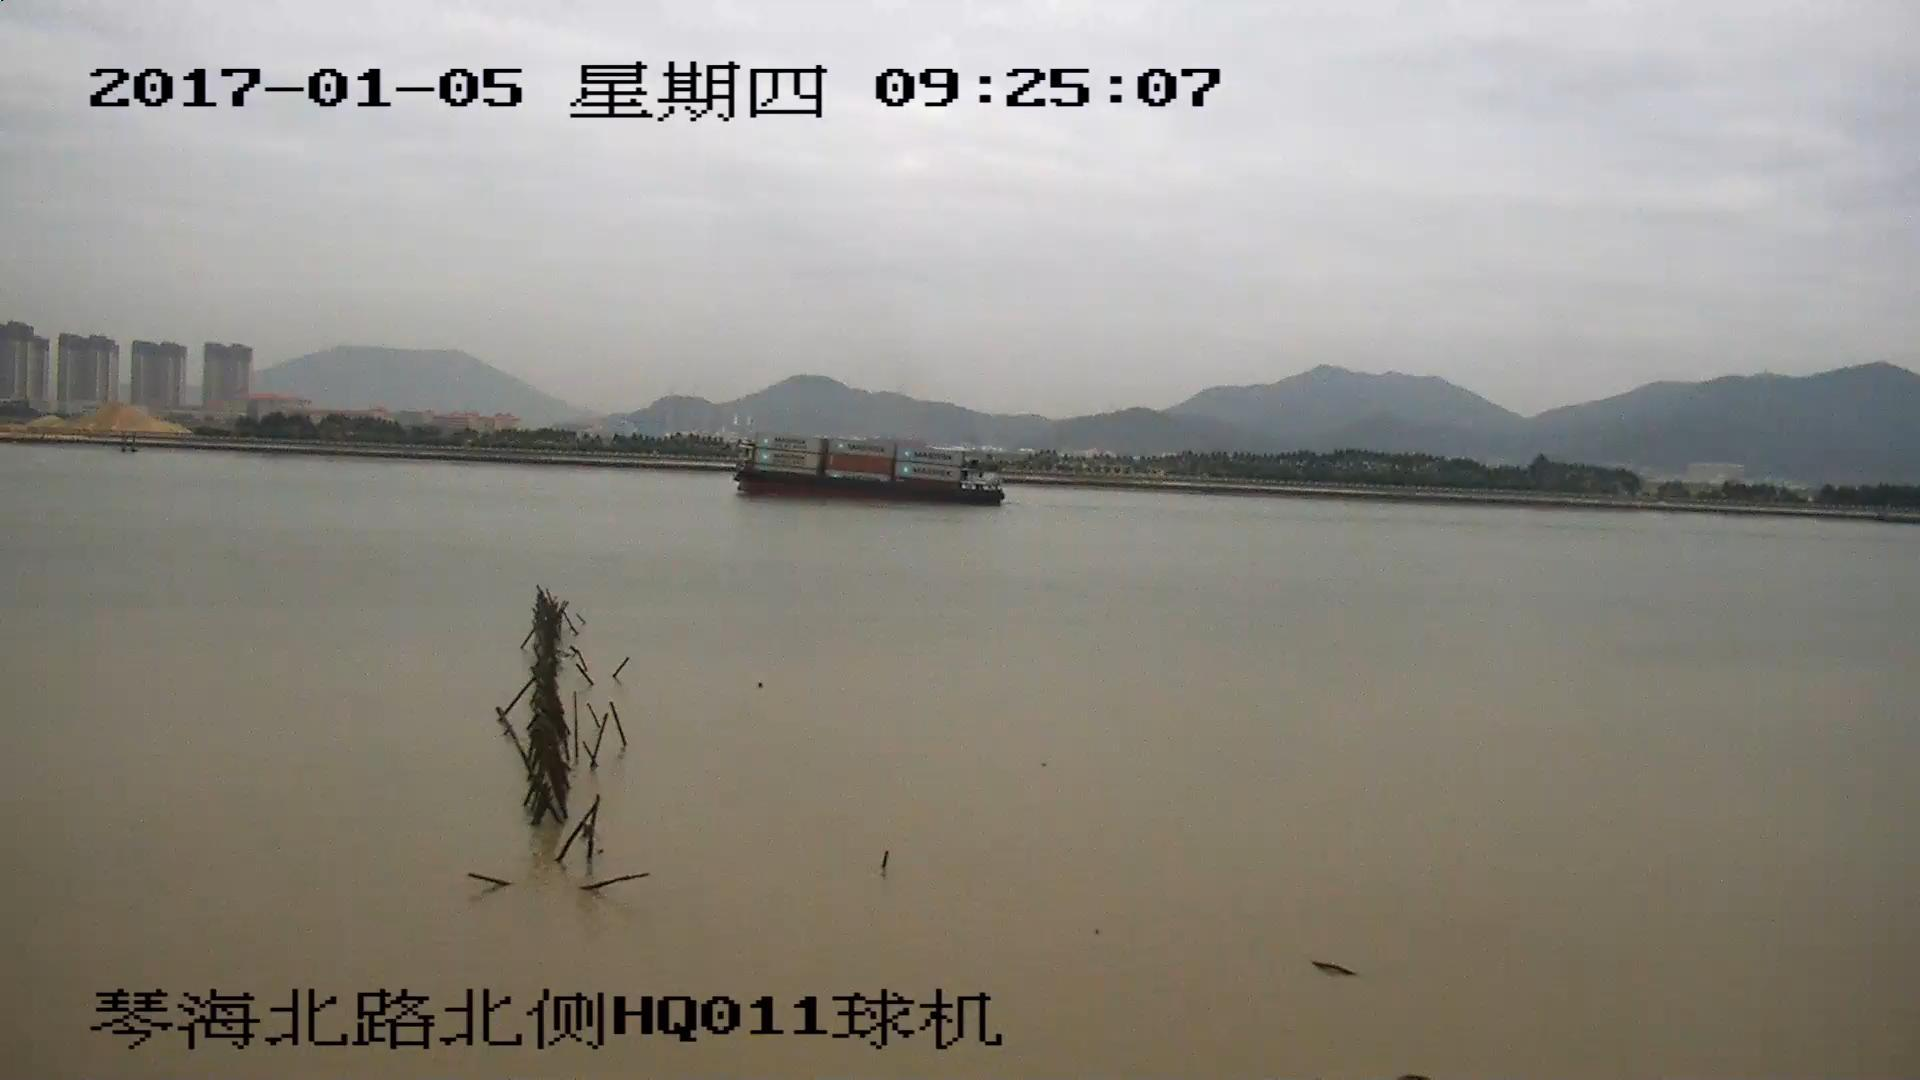Ship: (733, 436, 1005, 504)
